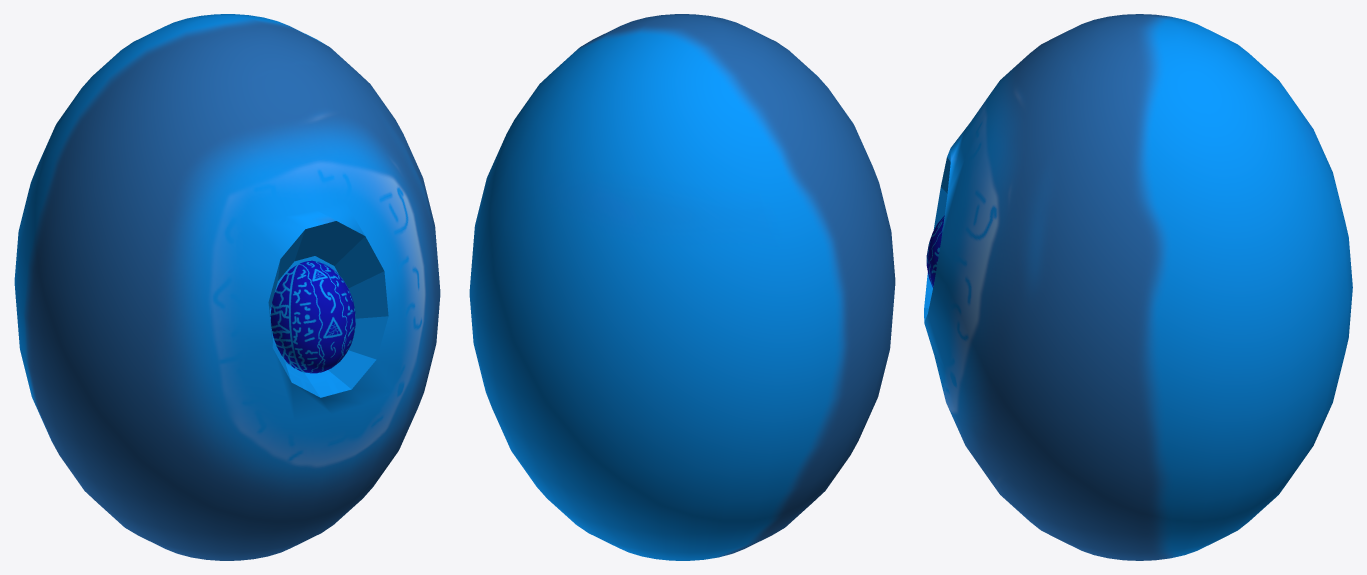
Rendered from WaterSeed_WIP.fbx.
3 renders of one model, left to right at view 1: azimuth 30°, elevation 25°; view 2: azimuth 150°, elevation 25°; view 3: azimuth 270°, elevation 25°, orthographic.
Parts seen in each view (by area): view 1: Sphere001; view 2: Sphere001; view 3: Sphere001.
Boxes of the visible parts, left/top/right/bottom form: Sphere001: left=14, top=14, right=440, bottom=560; Sphere001: left=469, top=14, right=895, bottom=560; Sphere001: left=924, top=14, right=1352, bottom=560.
Bounding box in the file's own units: 11.99 × 16.04 × 12.05.
